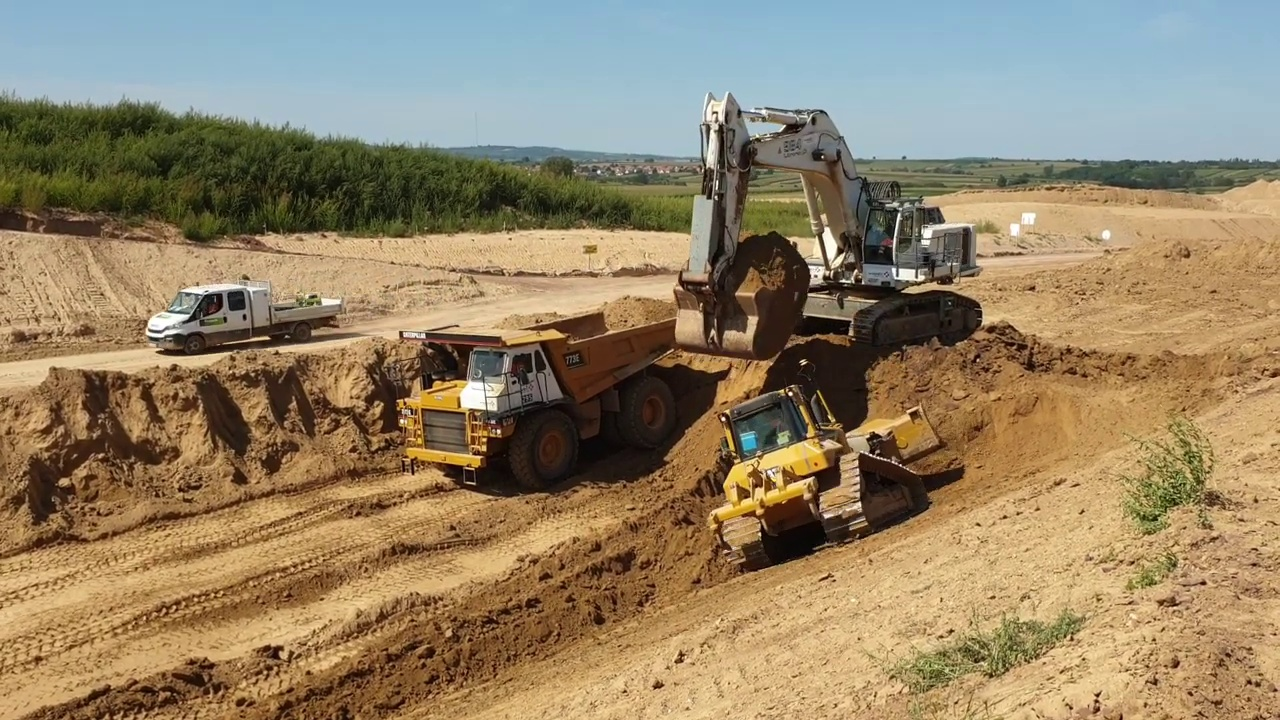bulldozer: (702, 361, 950, 575)
excavator: (673, 86, 987, 359)
truck: (390, 310, 685, 500), (139, 281, 346, 358)
